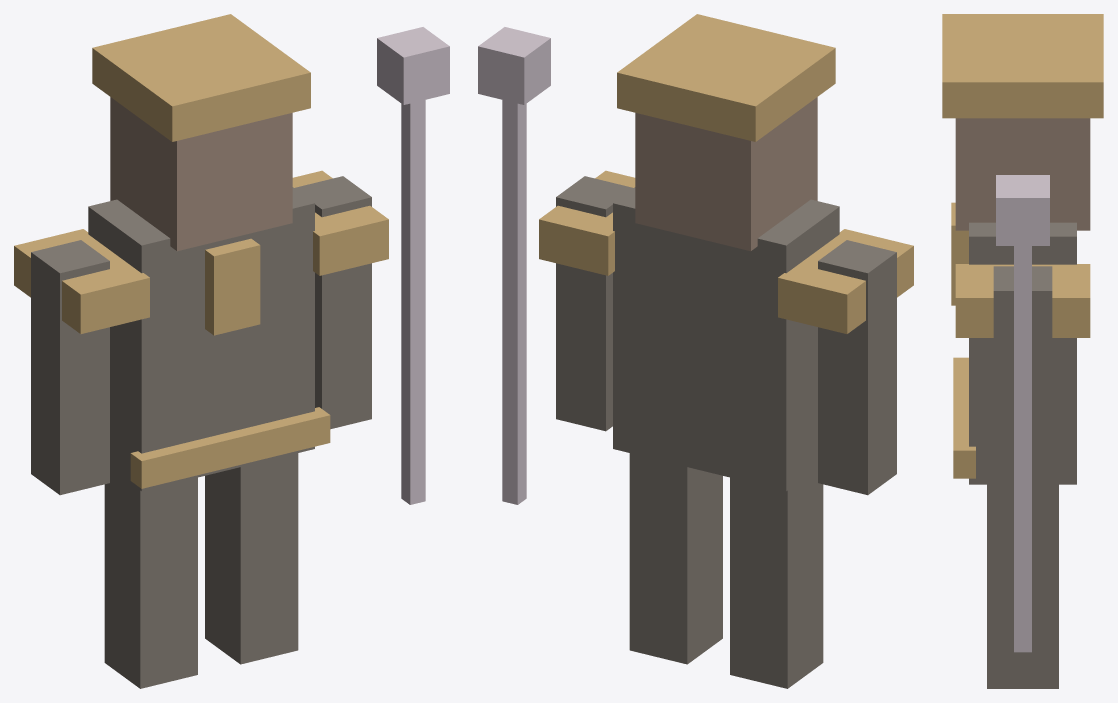
File: 10_tamsin_latchward_runner_from_echo.glb
The picture shows the model from 3 angles, left to right: view 1: azimuth 30°, elevation 25°; view 2: azimuth 150°, elevation 25°; view 3: azimuth 270°, elevation 25°; orthographic projection.
Visible parts, largest first — view 1: Tamsin Latchward, Runner from Echo; view 2: Tamsin Latchward, Runner from Echo; view 3: Tamsin Latchward, Runner from Echo.
Part boxes in pixels (x1,y1,x2,y2): Tamsin Latchward, Runner from Echo: (14, 14, 449, 688); Tamsin Latchward, Runner from Echo: (478, 14, 913, 688); Tamsin Latchward, Runner from Echo: (942, 14, 1103, 688).
Bounding box in the file's own units: 1 × 1.46 × 0.3557.
